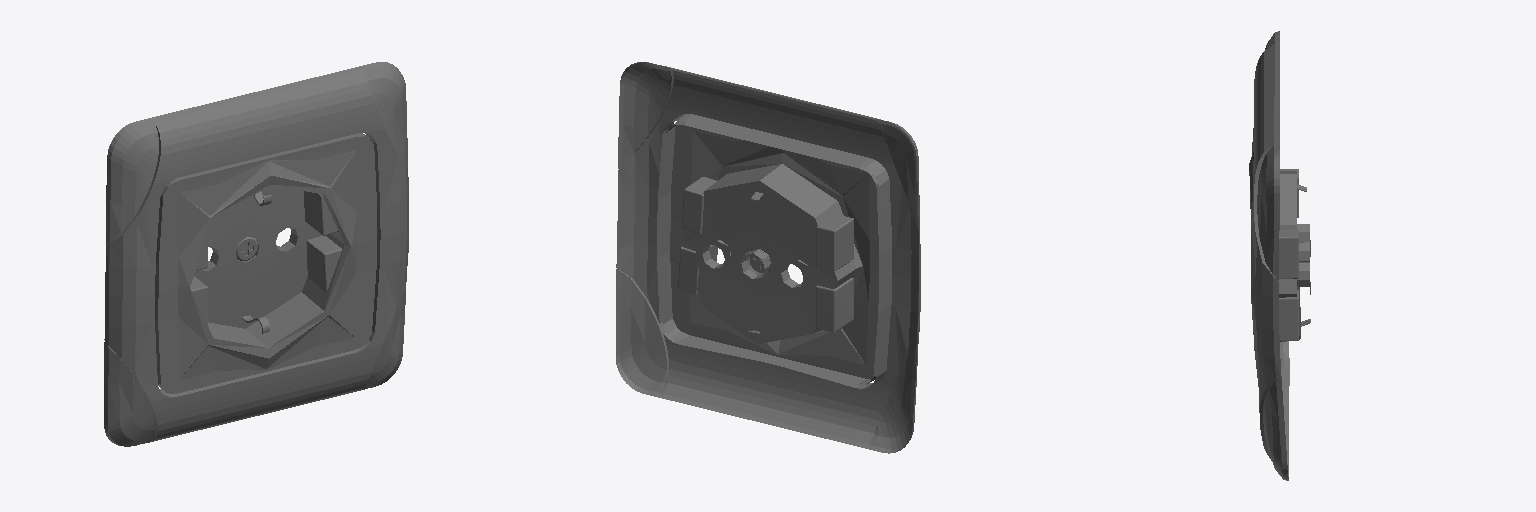
Rendered from steckdose.obj.
The picture shows the model from 3 angles: view 1: azimuth 30°, elevation 25°; view 2: azimuth 150°, elevation 25°; view 3: azimuth 270°, elevation 25°; orthographic projection.
Parts seen in each view (by area): view 1: steckdose_01 einrichtung; view 2: steckdose_01 einrichtung; view 3: steckdose_01 einrichtung.
Part boxes in pixels (x1,y1,x2,y2): steckdose_01 einrichtung: (104, 62, 408, 446); steckdose_01 einrichtung: (616, 62, 920, 453); steckdose_01 einrichtung: (1249, 31, 1310, 480).
Bounding box in the file's own units: 0.225 × 0.234 × 0.0398.